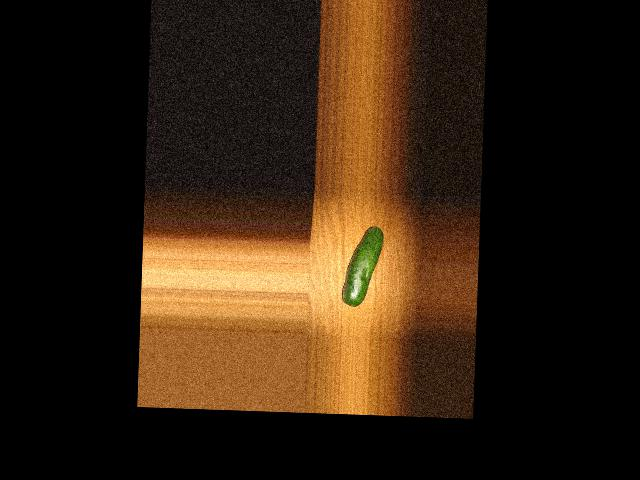cucumber: (341, 224, 383, 306)
